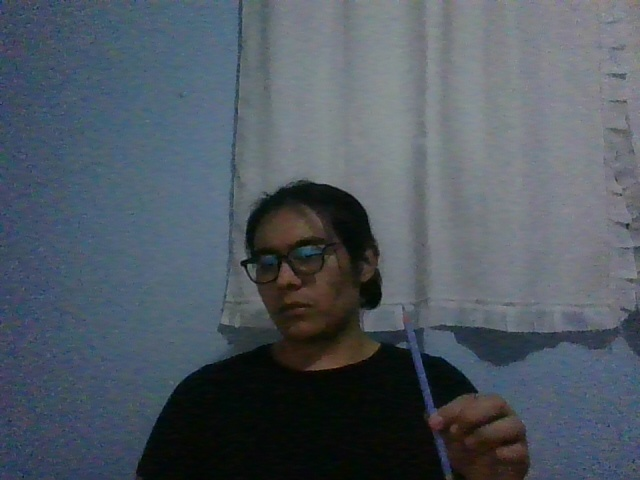lapiz: (401, 303, 454, 480)
